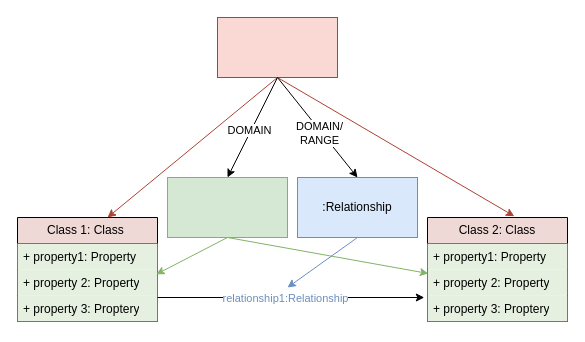
Image size: 585x342. Some labels were removed from this diagram. Here are the shapes that lost their labels. From the top down, the box of each, then its label:
(216, 16, 338, 78): :Class
(166, 176, 288, 238): :Property
